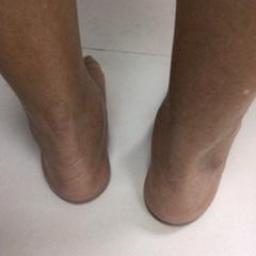Back View -Both Feet-: (10, 46, 252, 228)
